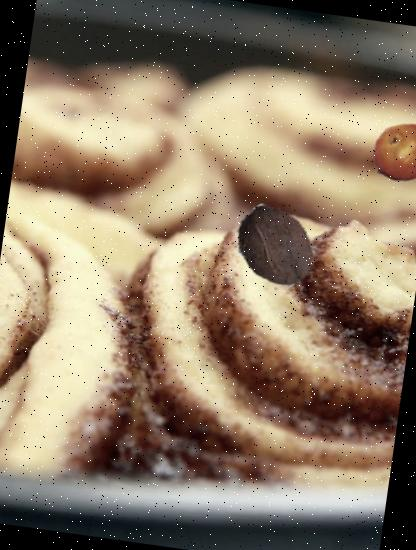Clementine: (366, 117, 416, 188)
Cocos: (225, 198, 323, 296)
